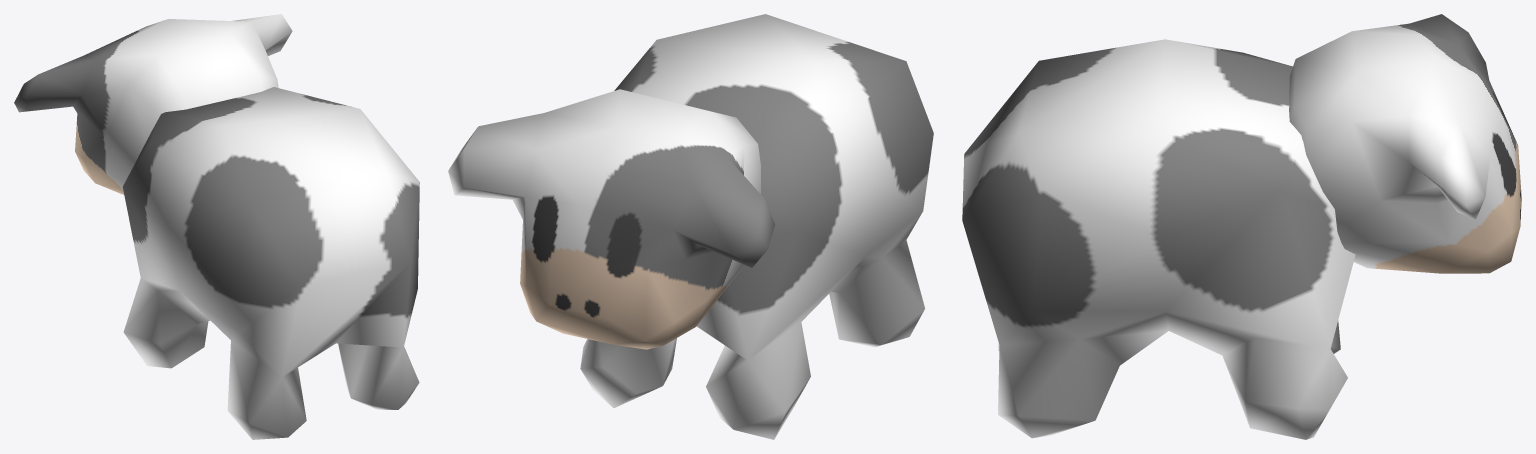
Rendered from cow.fbx.
3 views of the same model, side by side, from view 1: azimuth 30°, elevation 25°; view 2: azimuth 150°, elevation 25°; view 3: azimuth 270°, elevation 25° (orthographic). The views are drawn at different scales.
Visible parts, largest first — view 1: Cube.001, Cube; view 2: Cube.001, Cube; view 3: Cube.001, Cube.
Part boxes in pixels (x1,y1,x2,y2): Cube.001: (123, 87, 419, 439); Cube: (14, 14, 292, 194); Cube.001: (580, 14, 933, 439); Cube: (448, 89, 774, 349); Cube.001: (962, 39, 1355, 439); Cube: (1289, 14, 1521, 273).
Bounding box in the file's own units: 331 × 337 × 487.
2 materials, 2 textured.
